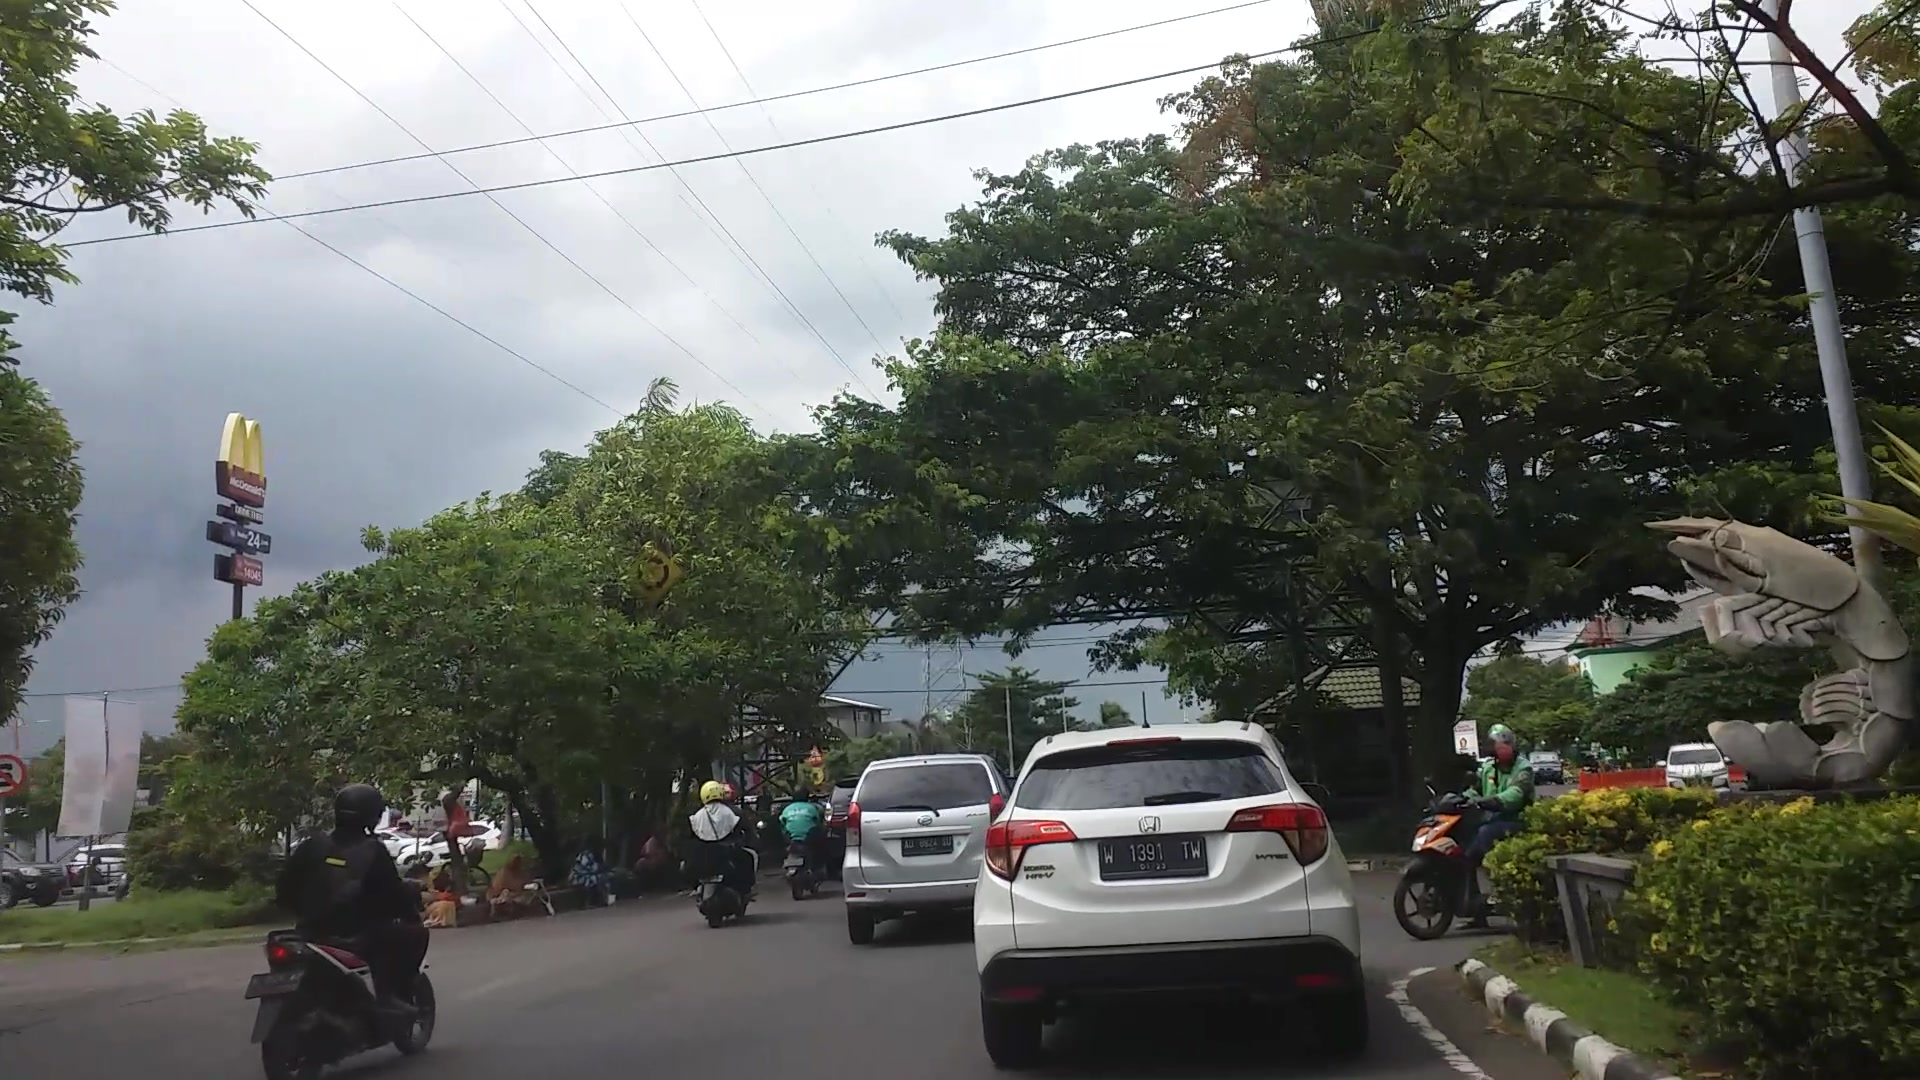plate_positive: (1100, 837, 1207, 880)
